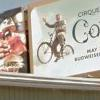Bicycle: (36, 27, 73, 70)
